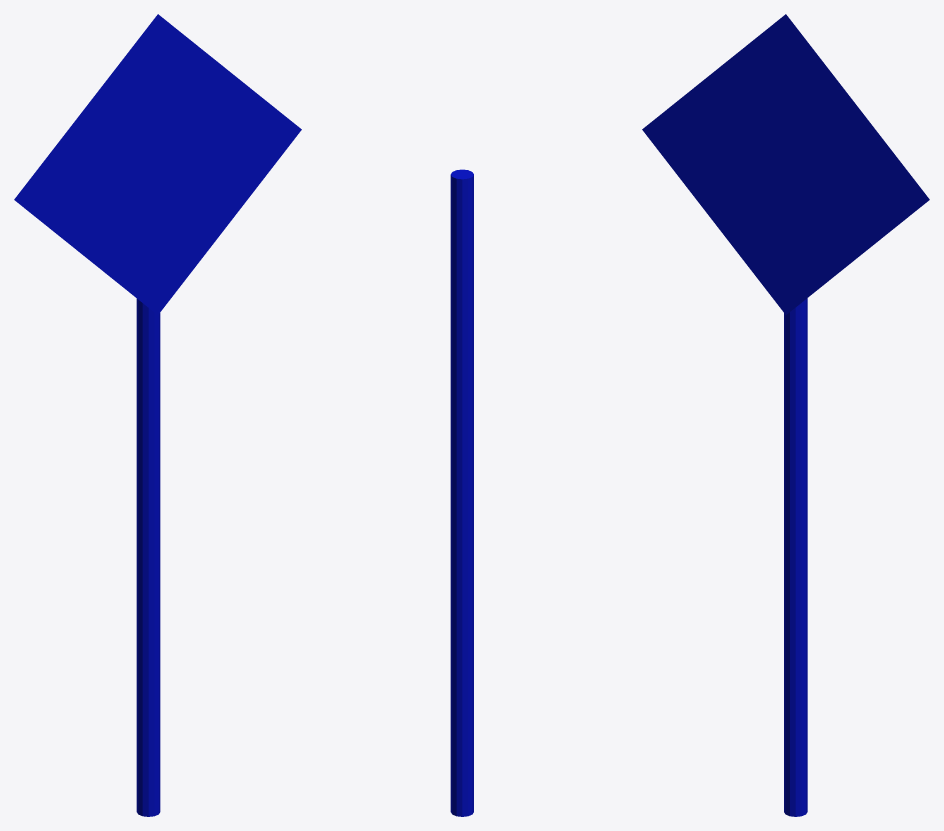
File: Sign_2.fbx
3 views of the same model, side by side, from view 1: azimuth 30°, elevation 25°; view 2: azimuth 150°, elevation 25°; view 3: azimuth 330°, elevation 25° (orthographic).
Visible parts, largest first — view 1: Sign_2; view 2: Sign_2; view 3: Sign_2.
Boxes of the visible parts, x1,y1,x2,y2 form: Sign_2: (14,14,301,816); Sign_2: (450,169,473,816); Sign_2: (642,14,929,816).
Bounding box in the file's own units: 237 × 634 × 22.17.
